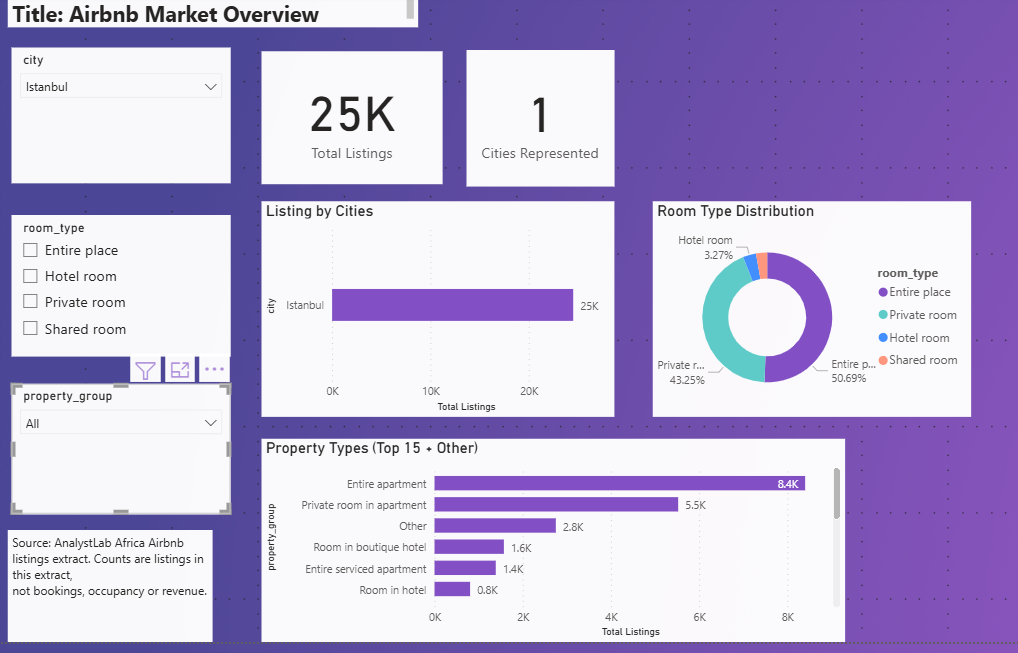

What the dashboard file says about the page in this screenshot:
{"tool":"powerbi","page":{"name":"Market Overview","canvas":[1280,720],"ordinal":1},"visuals":[{"type":"textbox","box":[9.6,0,456.6,36.1],"z":0},{"type":"card","fields":{"Values":["dim_listing.Total Listings"]},"box":[292.2,63.1,201.7,148.2],"z":1000},{"type":"card","fields":{"Values":["dim_listing.Cities Represented"]},"box":[520,61.7,164.6,152.3],"z":2000},{"type":"slicer","fields":{"Values":["dim_city.city"]},"box":[13.7,59,244.2,150.9],"z":3000},{"type":"slicer","fields":{"Values":["dim_listing.room_type"]},"box":[13.7,244.2,244.2,157.8],"z":4000},{"type":"slicer","fields":{"Values":["dim_listing.property_group"]},"box":[13.7,432.2,244.2,145.4],"z":5000},{"type":"clusteredBarChart","title":"Listing by Cities","fields":{"Category":["dim_city.city"],"Y":["dim_listing.Total Listings"]},"box":[291.6,228.9,392.8,239.8],"z":6000},{"type":"donutChart","title":"Room Type Distribution","fields":{"Category":["dim_listing.room_type"],"Y":["dim_listing.Total Listings"]},"box":[727.7,228.9,354.2,239.8],"z":7000},{"type":"clusteredBarChart","title":"Property Types (Top 15 + Other)","fields":{"Category":["dim_listing.property_group"],"Y":["dim_listing.Total Listings"]},"box":[291.6,494,649.4,226.5],"z":8000},{"type":"textbox","box":[9.6,595.4,227.7,124.8],"z":9000}]}

Visuals, with their boxes on the page's 1280x720 design canvas (x1, y1, x2, y2). These are canvas units, not pixel positions in the 1018x653 screenshot, which may show the page scaled, cropped or inside an application window:
textbox: (left=10, top=0, right=466, bottom=36)
card - dim_listing.Total Listings: (left=292, top=63, right=494, bottom=211)
card - dim_listing.Cities Represented: (left=520, top=62, right=685, bottom=214)
slicer - dim_city.city: (left=14, top=59, right=258, bottom=210)
slicer - dim_listing.room_type: (left=14, top=244, right=258, bottom=402)
slicer - dim_listing.property_group: (left=14, top=432, right=258, bottom=578)
"Listing by Cities" clusteredBarChart: (left=292, top=229, right=684, bottom=469)
"Room Type Distribution" donutChart: (left=728, top=229, right=1082, bottom=469)
"Property Types (Top 15 + Other)" clusteredBarChart: (left=292, top=494, right=941, bottom=720)
textbox: (left=10, top=595, right=237, bottom=720)
